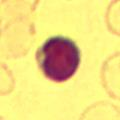lymphocyte: (32, 33, 83, 83)
